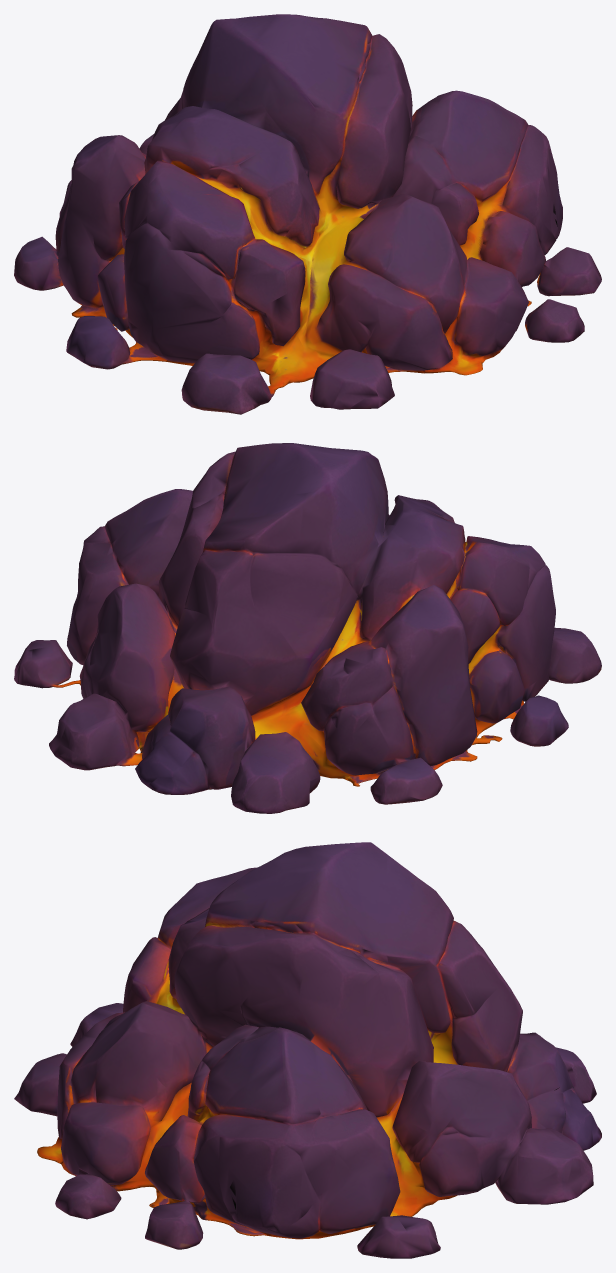
Rendered from grupo_de_rocas_de_lava.glb.
The picture shows the model from 3 angles, top to bottom: view 1: azimuth 30°, elevation 25°; view 2: azimuth 150°, elevation 25°; view 3: azimuth 270°, elevation 25°; orthographic projection. The views are drawn at different scales.
Visible parts, largest first — view 1: grupo_de_rocas_de_lava; view 2: grupo_de_rocas_de_lava; view 3: grupo_de_rocas_de_lava.
Boxes of the visible parts, bbox=[...] form: grupo_de_rocas_de_lava: bbox=[14, 14, 601, 414]; grupo_de_rocas_de_lava: bbox=[14, 443, 601, 813]; grupo_de_rocas_de_lava: bbox=[14, 842, 601, 1258].
Size of what is drawn, in the model's own units: 3.91 by 2 by 3.91.
Materials: 1 (1 with a texture image).
